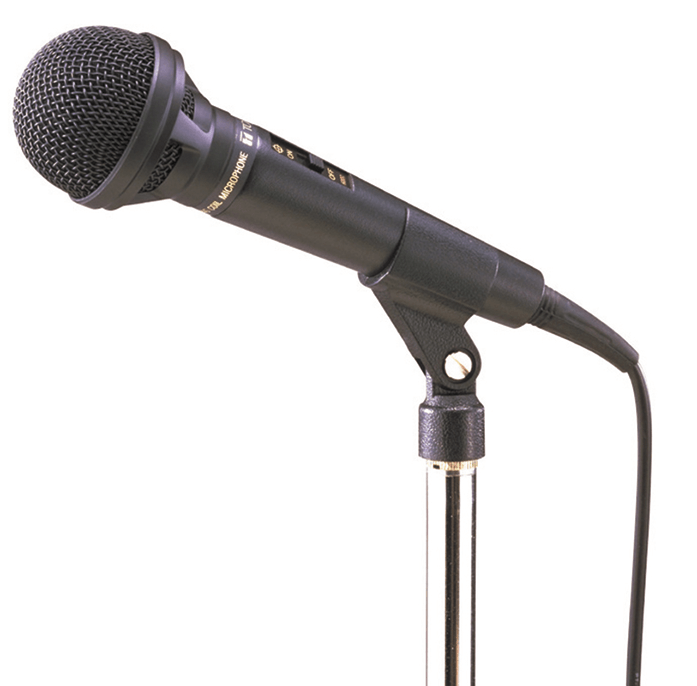microphone: (9, 20, 657, 686)
